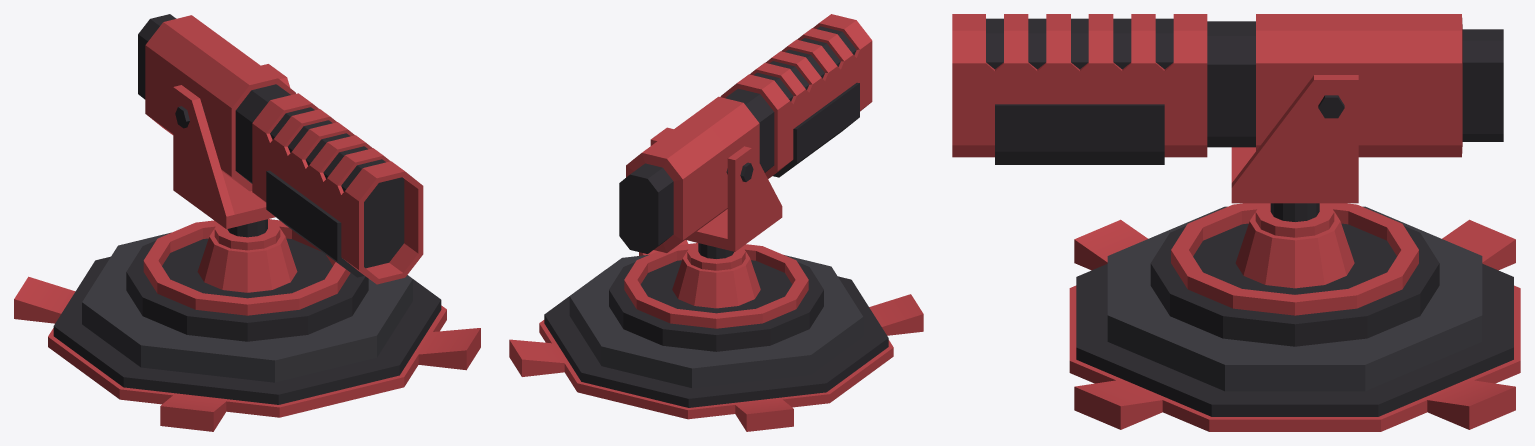
File: Scout.fbx
The picture shows the model from 3 angles, left to right: view 1: azimuth 30°, elevation 25°; view 2: azimuth 150°, elevation 25°; view 3: azimuth 270°, elevation 25°; orthographic projection. The views are drawn at different scales.
Visible parts, largest first — view 1: Cube.051, Cube.053, Cube.052, Cube.050; view 2: Cube.051, Cube.052, Cube.053, Cube.050; view 3: Cube.051, Cube.053, Cube.052, Cube.050.
Boxes of the visible parts, box(x1,y1,x2,y2) form: Cube.051: box(14, 219, 480, 431); Cube.053: box(252, 93, 423, 284); Cube.052: box(138, 14, 295, 191); Cube.050: box(173, 64, 290, 237); Cube.051: box(509, 240, 923, 431); Cube.052: box(619, 88, 774, 253); Cube.053: box(720, 14, 872, 178); Cube.050: box(650, 127, 782, 258); Cube.051: box(1069, 203, 1520, 431); Cube.053: box(952, 14, 1207, 164); Cube.052: box(1207, 14, 1503, 157); Cube.050: box(1231, 75, 1358, 221).
Size of the model in its own units: 114 by 90.54 by 69.68.
